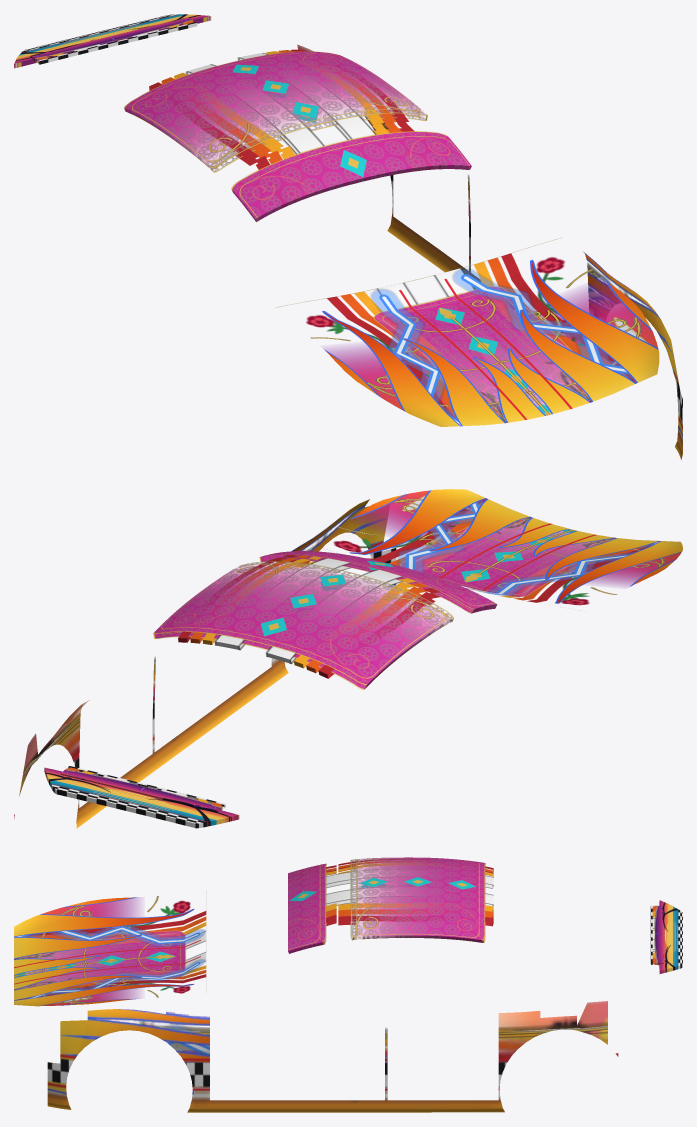
File: VireoEVinyls.glb
3 views of the same model, one above another, from view 1: azimuth 30°, elevation 25°; view 2: azimuth 150°, elevation 25°; view 3: azimuth 270°, elevation 25° (orthographic). The views are drawn at different scales.
Visible parts, largest first — view 1: VireoELivery_patterns_roof, VireoELivery_purple_lace_roof, VireoELivery_flames_hood, VireoELivery_patterns_hood, VireoELivery_lightning_hood, VireoELivery_purple_lace_hood, VireoELivery_retro_waves_roof, VireoELivery_retro_waves_hood, VireoELivery_stripes_roof, VireoELivery_sunset_fade_hood, VireoELivery_tropical_hood, VireoELivery_mural_trunk (+10 smaller); view 2: VireoELivery_patterns_roof, VireoELivery_purple_lace_roof, VireoELivery_flames_hood, VireoELivery_patterns_hood, VireoELivery_retro_waves_roof, VireoELivery_mural_trunk, VireoELivery_sunset_fade_side, VireoELivery_lightning_hood, VireoELivery_purple_lace_hood, VireoELivery_stripes_roof, VireoELivery_retro_waves_hood, VireoELivery_sunset_fade_hood (+11 smaller); view 3: VireoELivery_patterns_roof, VireoELivery_purple_lace_roof, VireoELivery_flames_hood, VireoELivery_sunset_fade_side, VireoELivery_patterns_hood, VireoELivery_flames_side, VireoELivery_retro_waves_roof, VireoELivery_lightning_hood, VireoELivery_tropical_side, VireoELivery_retro_waves_hood, VireoELivery_purple_lace_hood, VireoELivery_stripes_roof (+15 smaller).
Boxes of the visible parts, bbox=[...] form: VireoELivery_patterns_roof: bbox=[124, 51, 471, 221]; VireoELivery_purple_lace_roof: bbox=[130, 55, 471, 221]; VireoELivery_flames_hood: bbox=[322, 260, 659, 426]; VireoELivery_patterns_hood: bbox=[373, 286, 589, 422]; VireoELivery_lightning_hood: bbox=[371, 269, 633, 425]; VireoELivery_purple_lace_hood: bbox=[420, 301, 587, 420]; VireoELivery_retro_waves_roof: bbox=[149, 49, 414, 169]; VireoELivery_retro_waves_hood: bbox=[327, 253, 635, 418]; VireoELivery_stripes_roof: bbox=[186, 53, 376, 154]; VireoELivery_sunset_fade_hood: bbox=[329, 283, 657, 417]; VireoELivery_tropical_hood: bbox=[330, 285, 652, 398]; VireoELivery_mural_trunk: bbox=[14, 14, 210, 68]; VireoELivery_patterns_roof: bbox=[153, 551, 497, 689]; VireoELivery_purple_lace_roof: bbox=[163, 551, 496, 678]; VireoELivery_flames_hood: bbox=[349, 489, 682, 603]; VireoELivery_patterns_hood: bbox=[400, 518, 611, 597]; VireoELivery_retro_waves_roof: bbox=[178, 555, 440, 678]; VireoELivery_mural_trunk: bbox=[44, 768, 238, 826]; VireoELivery_sunset_fade_side: bbox=[23, 658, 288, 828]; VireoELivery_lightning_hood: bbox=[398, 500, 659, 595]; VireoELivery_purple_lace_hood: bbox=[431, 518, 611, 583]; VireoELivery_stripes_roof: bbox=[214, 558, 402, 663]; VireoELivery_retro_waves_hood: bbox=[367, 498, 650, 602]; VireoELivery_sunset_fade_hood: bbox=[355, 490, 681, 585]; VireoELivery_patterns_roof: bbox=[288, 857, 485, 953]; VireoELivery_purple_lace_roof: bbox=[288, 857, 485, 953]; VireoELivery_flames_hood: bbox=[14, 897, 193, 1006]; VireoELivery_sunset_fade_side: bbox=[47, 1023, 607, 1112]; VireoELivery_patterns_hood: bbox=[14, 930, 185, 988]; VireoELivery_flames_side: bbox=[47, 1009, 607, 1094]; VireoELivery_retro_waves_roof: bbox=[326, 858, 493, 926]; VireoELivery_lightning_hood: bbox=[15, 925, 205, 999]; VireoELivery_tropical_side: bbox=[498, 1001, 607, 1053]; VireoELivery_retro_waves_hood: bbox=[16, 911, 206, 1000]; VireoELivery_purple_lace_hood: bbox=[18, 942, 185, 987]; VireoELivery_stripes_roof: bbox=[326, 869, 493, 906].
Size of the model in its own units: 6.96 by 4.81 by 17.24.
Materials: 50 (50 with a texture image).
